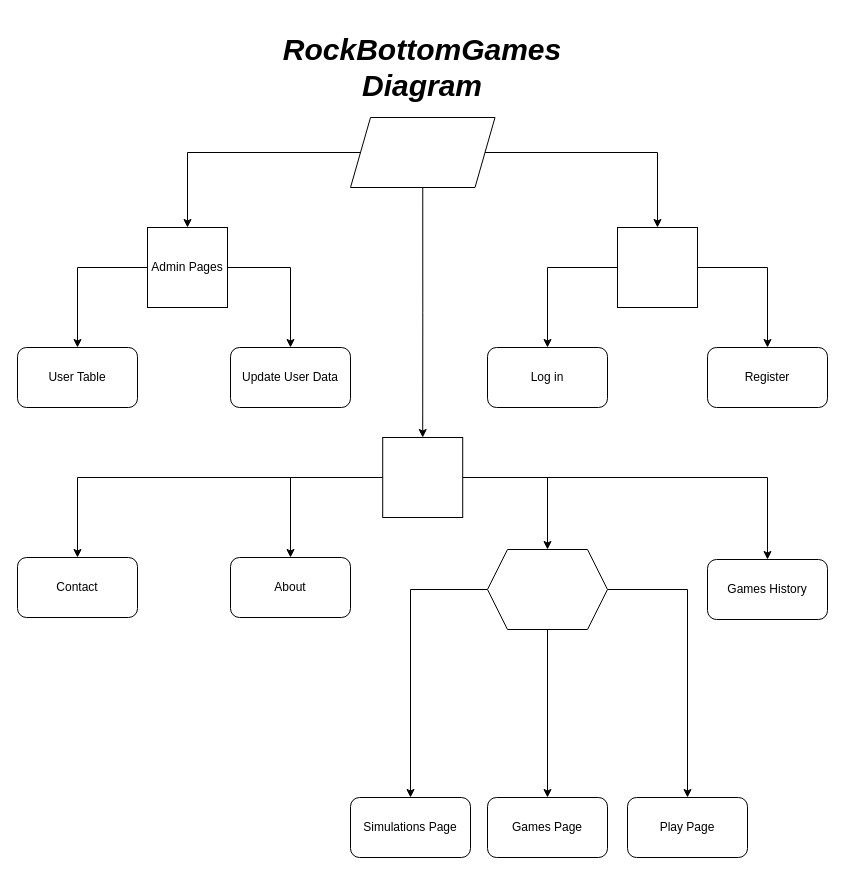
Image size: 845x875. Some labels were removed from this diagram. The shapes that lost their labels are listed below. From the top down, each one's box as (x1, y1, x2, y2) in pixels, then its label:
(350, 116, 495, 188): Master Page Layout
(616, 226, 698, 308): Reg/Log
(382, 436, 463, 518): User Pages
(486, 548, 608, 630): Home Page
